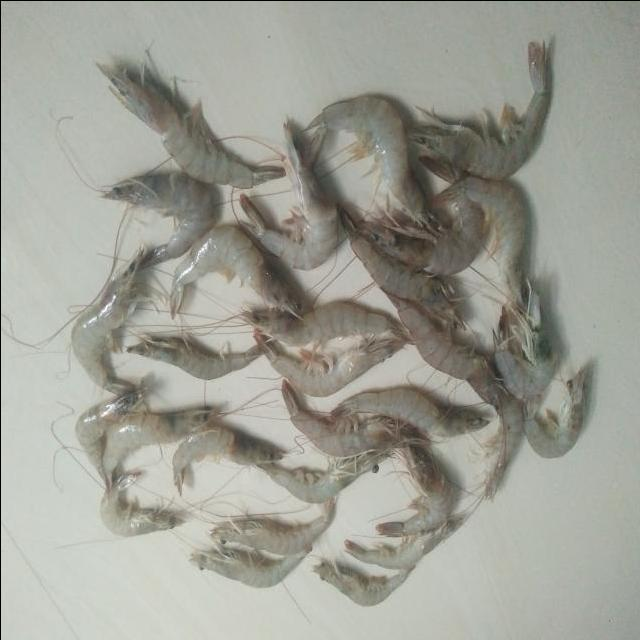shrimp: (95, 63, 283, 187), (407, 41, 549, 179), (302, 95, 430, 224), (380, 287, 501, 417), (339, 207, 464, 328), (238, 122, 337, 270), (431, 175, 525, 309), (168, 225, 303, 318), (281, 380, 429, 456), (101, 172, 213, 268), (70, 250, 142, 395), (253, 330, 406, 397), (357, 196, 484, 274), (101, 408, 215, 488), (171, 424, 282, 495), (330, 388, 489, 437), (240, 301, 404, 346), (375, 445, 454, 537), (491, 288, 556, 399), (210, 498, 334, 556), (73, 387, 144, 488), (257, 451, 390, 504), (258, 451, 389, 504), (344, 518, 463, 569), (483, 354, 523, 503), (125, 338, 262, 380), (98, 472, 183, 537), (523, 371, 586, 458), (188, 547, 311, 589), (313, 562, 413, 607)
